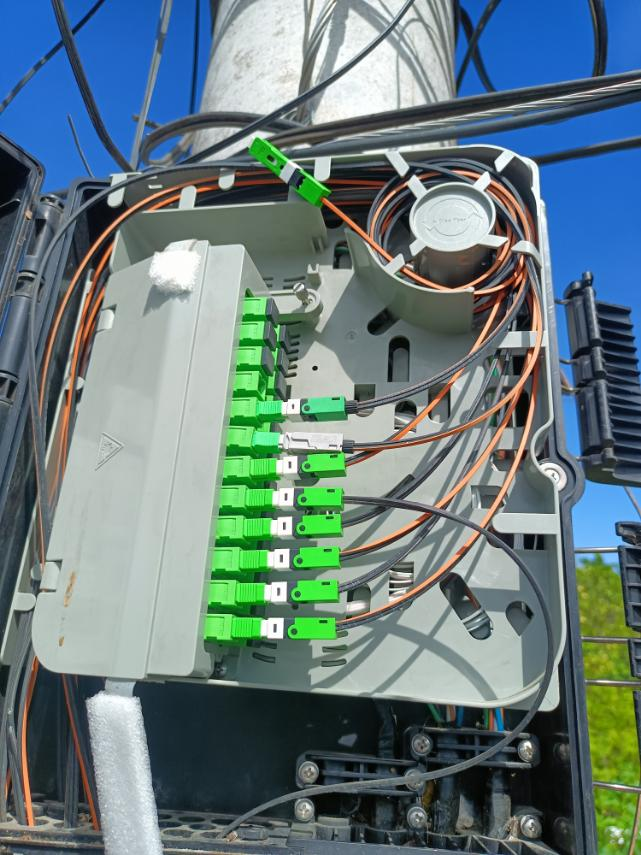no dust cap: (257, 374, 265, 400)
occupied: (235, 581, 341, 605), (236, 546, 342, 570), (240, 519, 346, 543), (242, 489, 348, 513), (245, 460, 351, 484), (247, 431, 353, 455), (255, 398, 361, 422), (232, 617, 337, 641)
vacant: (246, 622, 265, 649), (248, 594, 267, 621), (253, 567, 272, 594), (272, 395, 287, 428), (257, 536, 275, 563), (276, 346, 291, 378), (268, 442, 283, 474), (265, 297, 280, 329), (263, 321, 278, 353), (261, 345, 276, 377), (279, 323, 293, 356), (274, 370, 288, 402), (270, 417, 284, 449), (264, 481, 279, 501), (262, 513, 276, 534)
